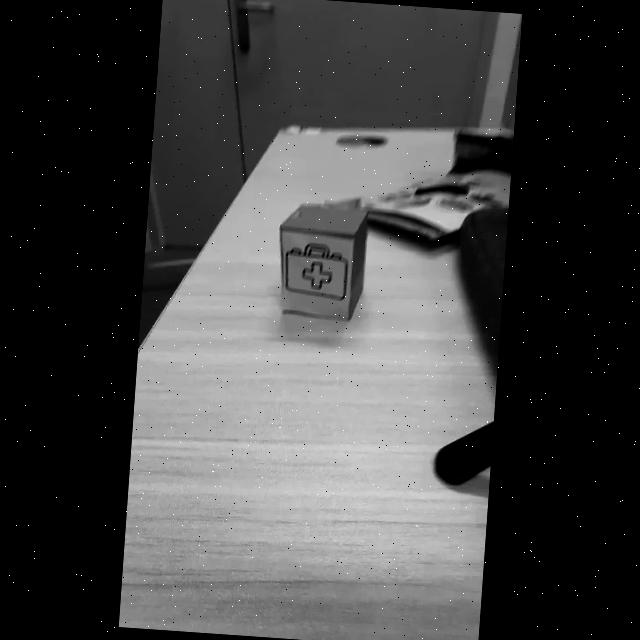Medkit: (284, 243, 348, 300)
